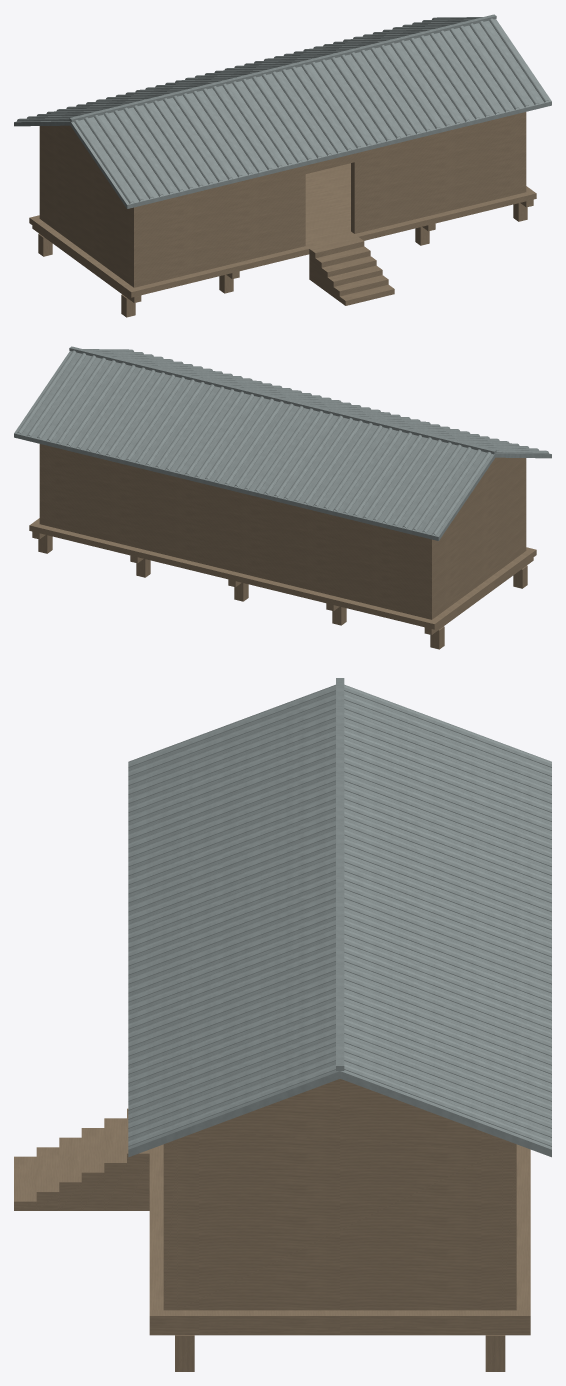
The model's file is warehouse-B-organized-local.glb.
3 views of the same model, one above another, from view 1: azimuth 30°, elevation 25°; view 2: azimuth 150°, elevation 25°; view 3: azimuth 270°, elevation 25° (orthographic). The views are drawn at different scales.
Visible parts, largest first — view 1: B_roofbed_-1, B_frontwall_-1, B_frontwall_1, B_floor, B_sidewall_-1, B_ridge, B_gable_-1, B_step_5, B_step_4, B_step_3, B_step_2, B_step_1 (+47 smaller); view 2: B_backwall, B_roofbed_1, B_sidewall_-1, B_floor, B_ridge, B_gable_-1, B_cover_1_11, B_cover_1_20, B_cover_1_22, B_cover_1_28, B_cover_1_35, B_cover_1_39 (+39 smaller); view 3: B_sidewall_1, B_roofbed_-1, B_roofbed_1, B_gable_1, B_floor, B_joist_4, B_ridge, B_frontwall_1, B_backwall, B_step_4, B_step_3, B_step_2 (+89 smaller).
Boxes of the visible parts, x1,y1,x2,y2 form: B_roofbed_-1: (70, 19, 551, 208); B_frontwall_-1: (130, 165, 305, 287); B_frontwall_1: (351, 112, 526, 233); B_floor: (29, 163, 536, 297); B_sidewall_-1: (43, 136, 130, 284); B_ridge: (69, 14, 496, 122); B_gable_-1: (39, 125, 110, 184); B_step_5: (309, 237, 364, 283); B_step_4: (315, 246, 370, 288); B_step_3: (321, 256, 376, 292); B_step_2: (327, 265, 382, 296); B_step_1: (333, 275, 388, 301); B_backwall: (39, 444, 435, 619); B_roofbed_1: (14, 351, 495, 540); B_sidewall_-1: (435, 468, 522, 616); B_floor: (29, 518, 536, 629); B_ridge: (69, 346, 496, 454); B_gable_-1: (455, 457, 526, 516); B_cover_1_11: (323, 425, 382, 509); B_cover_1_20: (234, 403, 293, 487); B_cover_1_22: (214, 398, 274, 482); B_cover_1_28: (155, 384, 214, 468); B_cover_1_35: (86, 367, 145, 451); B_cover_1_39: (46, 357, 106, 441); B_sidewall_1: (177, 1150, 502, 1310); B_roofbed_-1: (128, 691, 340, 1157); B_roofbed_1: (340, 691, 551, 1157); B_gable_1: (163, 1079, 516, 1150); B_floor: (149, 1144, 530, 1326); B_joist_4: (149, 1326, 530, 1335); B_ridge: (336, 678, 344, 1070); B_frontwall_1: (163, 1150, 177, 1310); B_backwall: (502, 1150, 516, 1310); B_step_4: (104, 1118, 126, 1210); B_step_3: (81, 1128, 104, 1210); B_step_2: (59, 1137, 81, 1210).
Size of the model in its own units: 13 by 4.95 by 7.62.
Materials: 3 (2 with a texture image).
